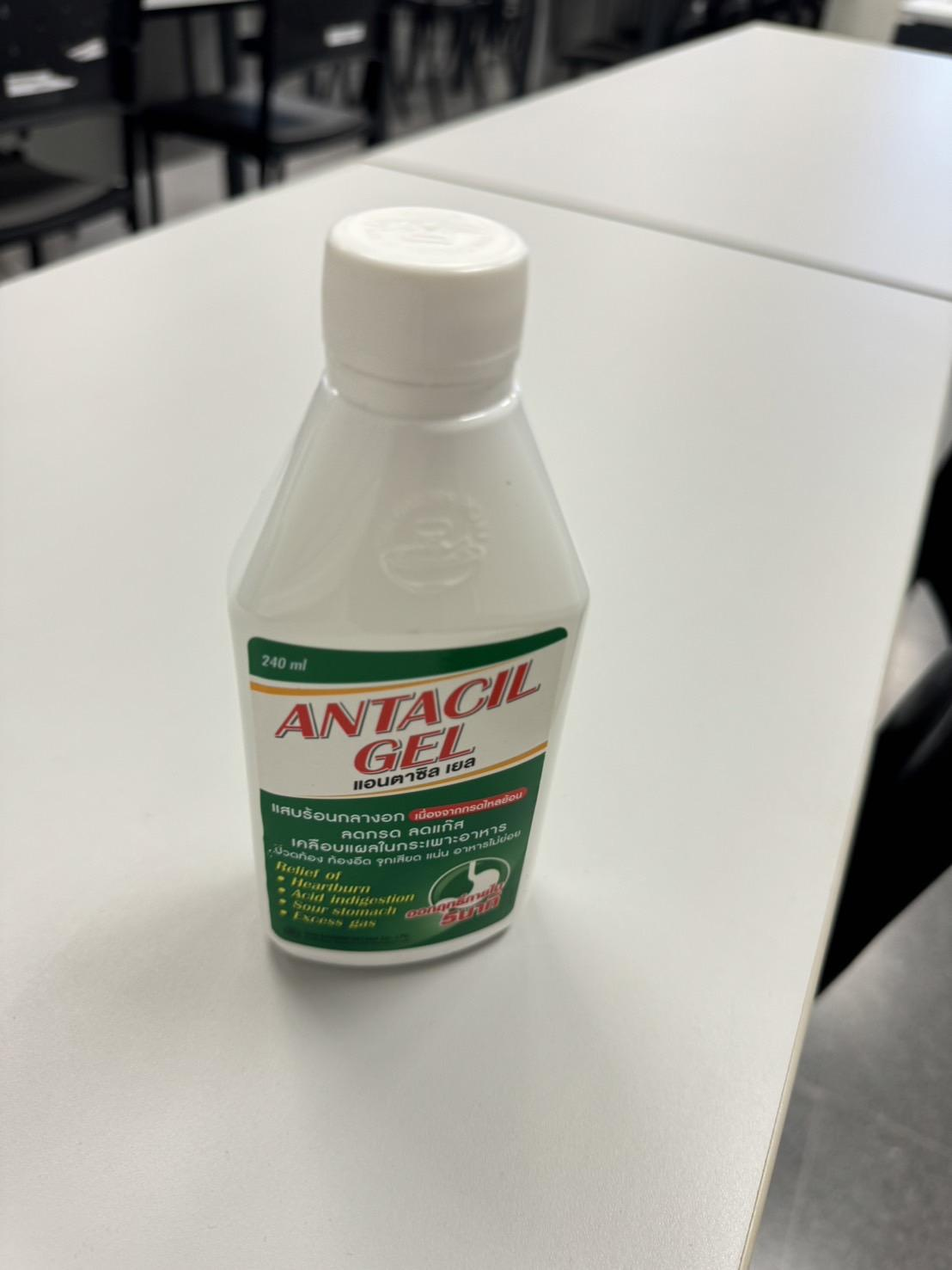cup: (233, 206, 586, 980)
